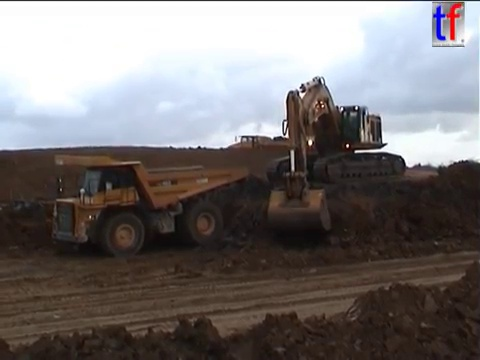excavator: (262, 72, 408, 237)
truck: (44, 151, 250, 257), (222, 133, 307, 160)
